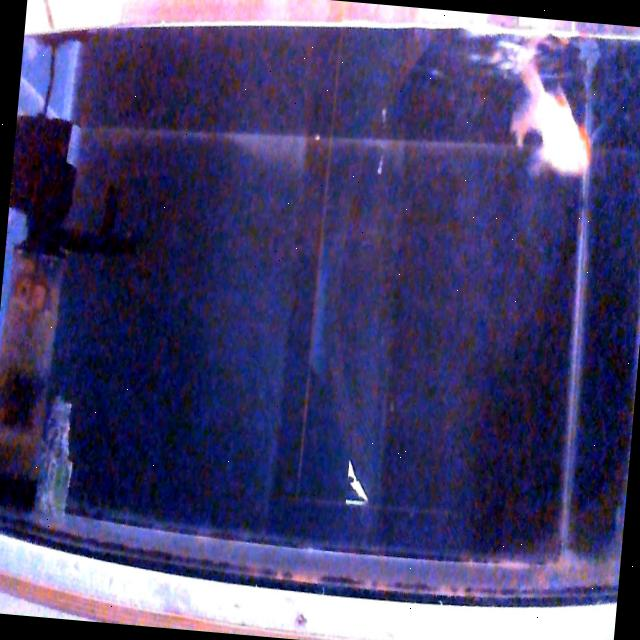fish: (506, 46, 600, 180)
